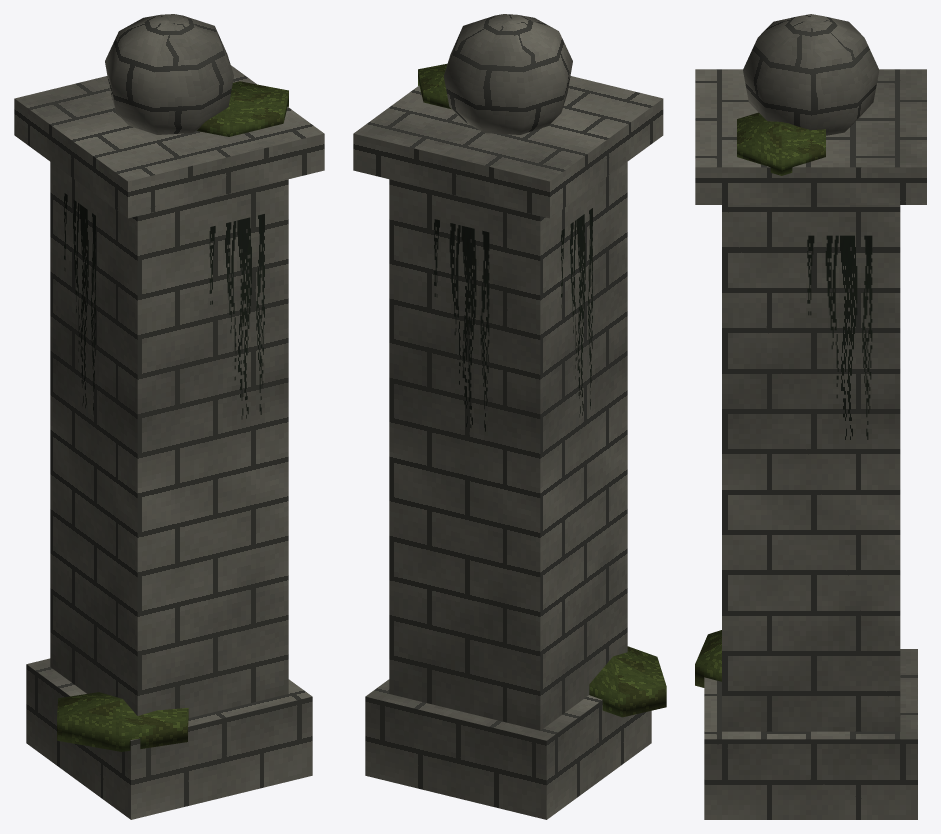
File: park_pillar.glb
The picture shows the model from 3 angles, left to right: view 1: azimuth 30°, elevation 25°; view 2: azimuth 150°, elevation 25°; view 3: azimuth 270°, elevation 25°; orthographic projection. The views are drawn at different scales.
Parts seen in each view (by area): view 1: pillar-col, detail; view 2: pillar-col, detail; view 3: pillar-col, detail.
Part boxes in pixels (<box>): pillar-col: <box>14,65,324,819</box>; detail: <box>57,14,288,751</box>; pillar-col: <box>353,76,663,819</box>; detail: <box>418,14,666,717</box>; pillar-col: <box>695,69,926,819</box>; detail: <box>695,14,879,687</box>.
Bounding box in the file's own units: 0.9537 × 2.8 × 0.7811.
Materials: 3 (3 with a texture image).
